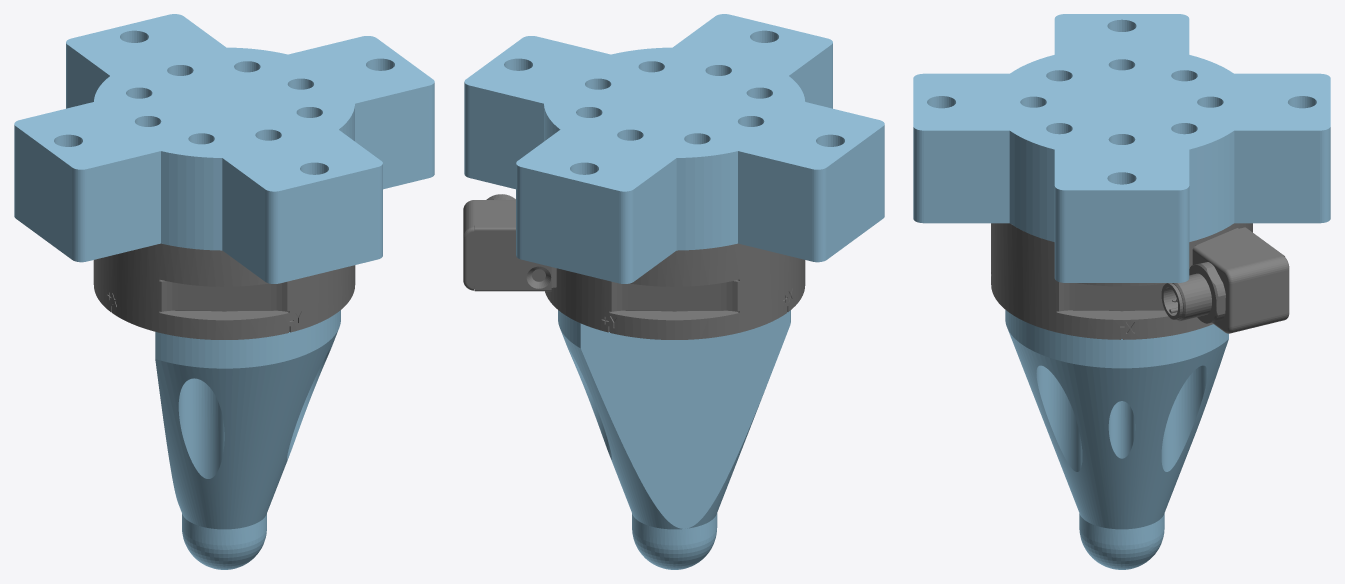
Rendered from CombinedEndEffector.dae.
3 views of the same model, side by side, from view 1: azimuth 30°, elevation 25°; view 2: azimuth 150°, elevation 25°; view 3: azimuth 270°, elevation 25° (orthographic).
Visible parts, largest first — view 1: Part 1 (×4); view 2: Part 1 (×4), Part 2; view 3: Part 1 (×4), Part 2.
Part boxes in pixels (box(x1,y1,x2,y2)): Part 1 (×4): box(14, 14, 434, 569); Part 1 (×4): box(464, 14, 884, 569); Part 2: box(463, 194, 556, 291); Part 1 (×4): box(913, 14, 1330, 569); Part 2: box(1161, 227, 1289, 333).
Bounding box in the file's own units: 0.118 × 0.118 × 0.1447.
